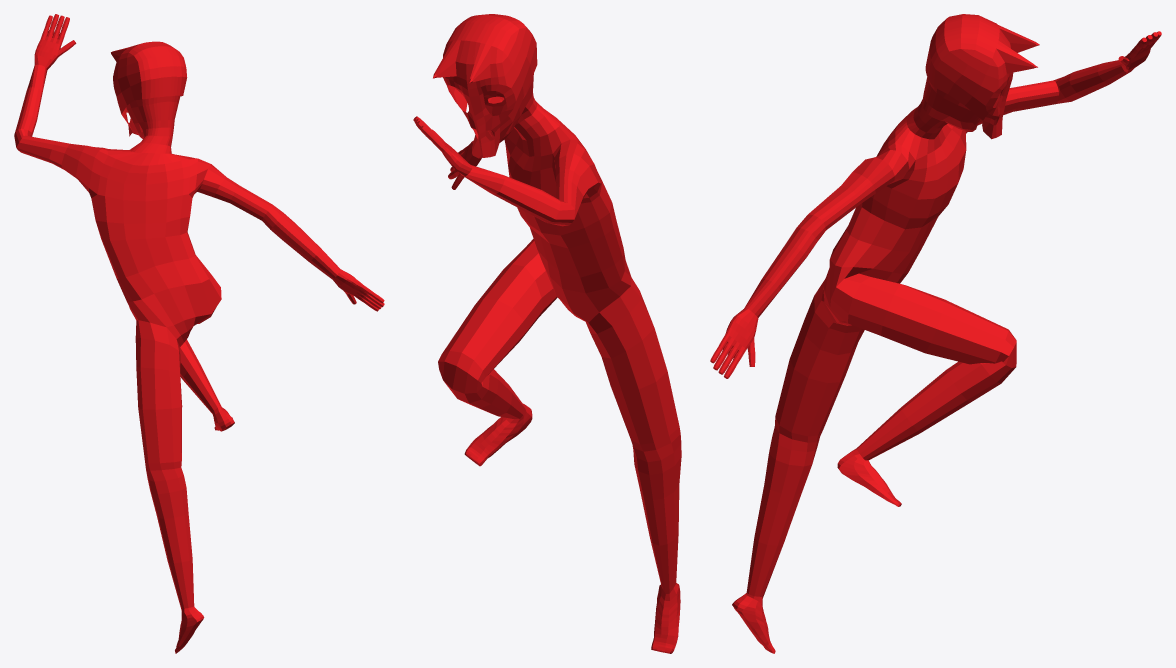
Rendered from saltoadelanteE_000105.obj.
3 renders of one model, left to right at view 1: azimuth 30°, elevation 25°; view 2: azimuth 150°, elevation 25°; view 3: azimuth 270°, elevation 25°, orthographic. The views are drawn at different scales.
Parts seen in each view (by area): view 1: Plane.002_Plane.001; view 2: Plane.002_Plane.001; view 3: Plane.002_Plane.001.
Part boxes in pixels (bbox=[...]): Plane.002_Plane.001: bbox=[14, 14, 384, 653]; Plane.002_Plane.001: bbox=[413, 14, 681, 653]; Plane.002_Plane.001: bbox=[710, 14, 1161, 653].
Bounding box in the file's own units: 3.24 × 7.17 × 4.42.
